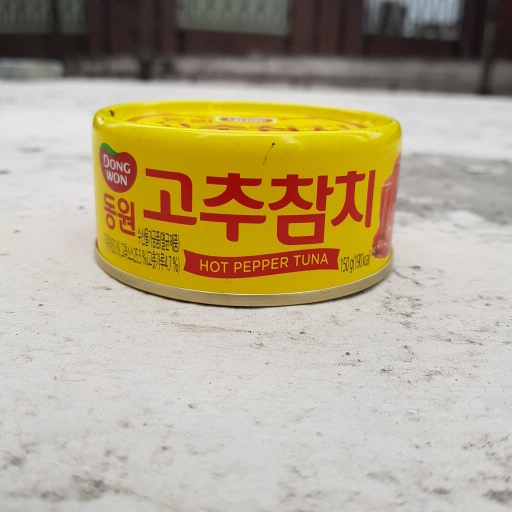Metal_1: (87, 92, 406, 306)
